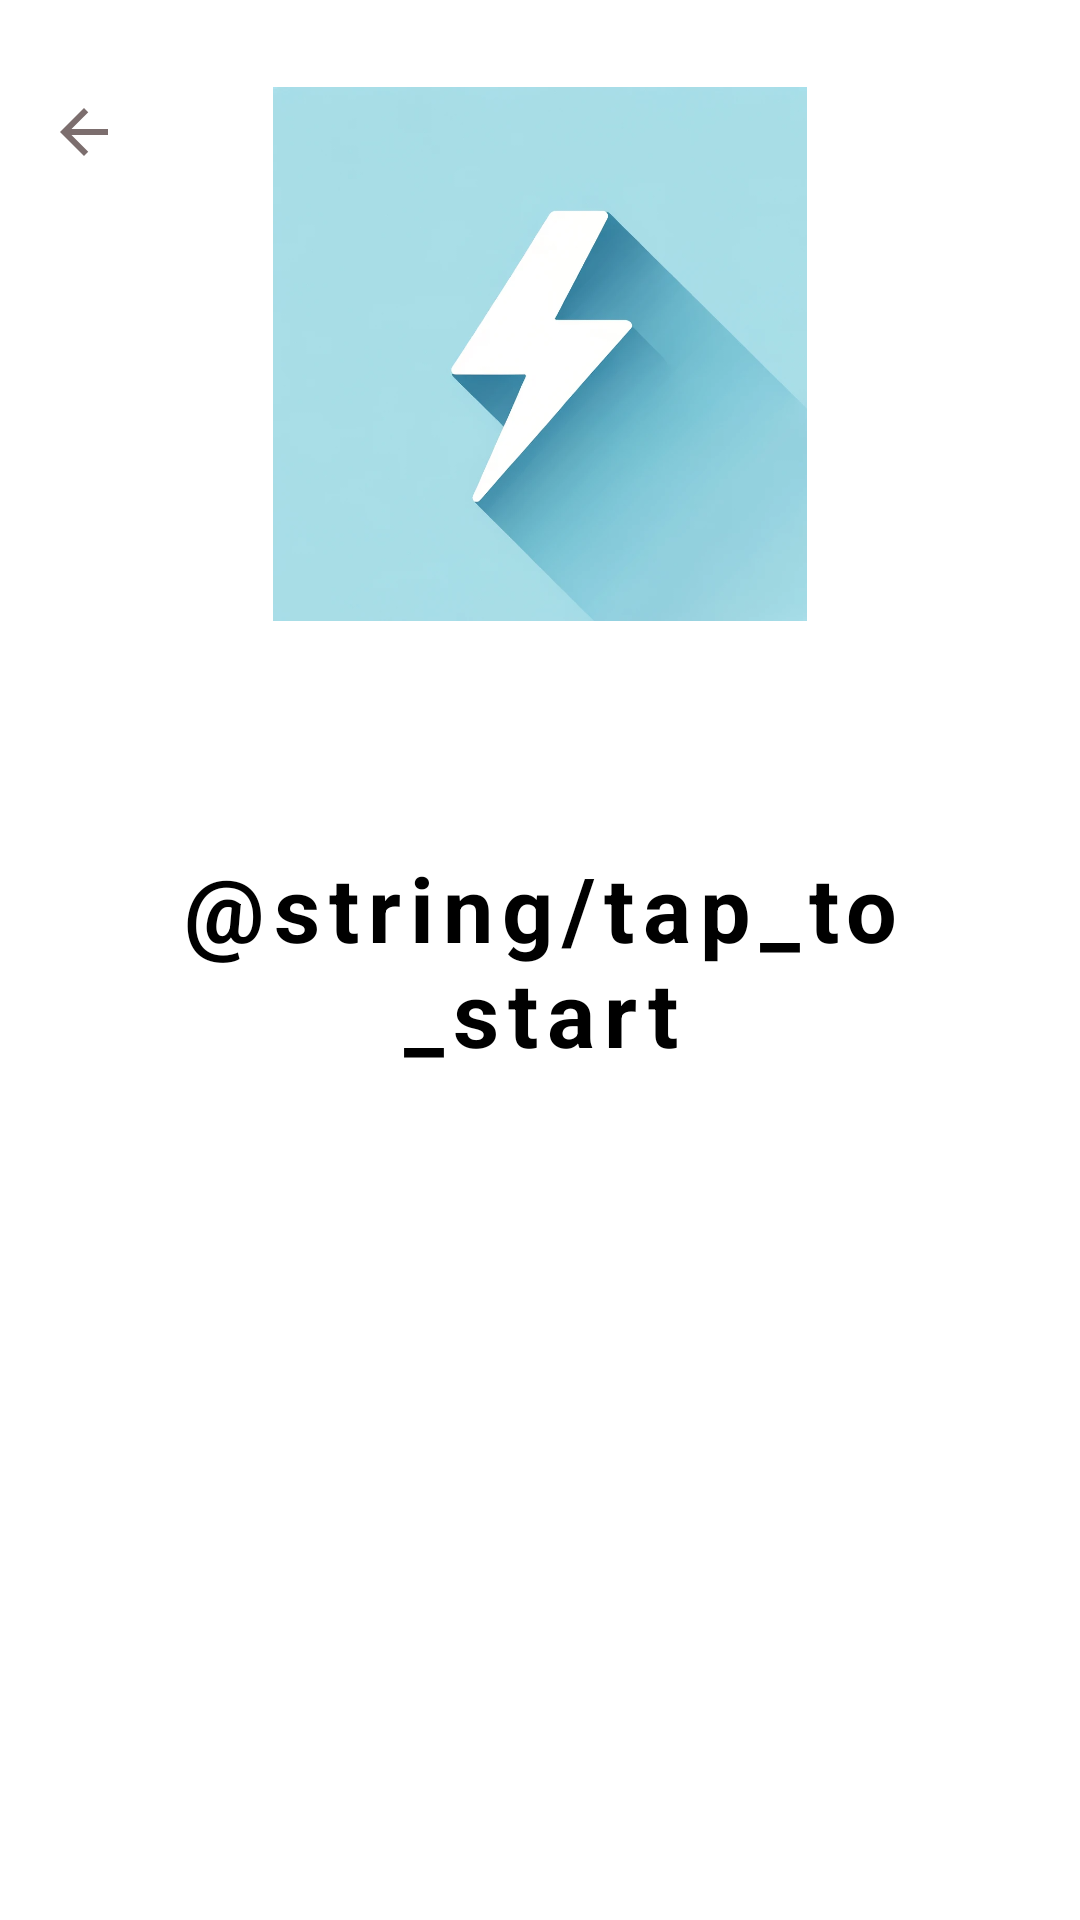

Point at icon controls on the screen. Image size 1080px×1920px, points as (x,y).
arrow back: (84,132)
